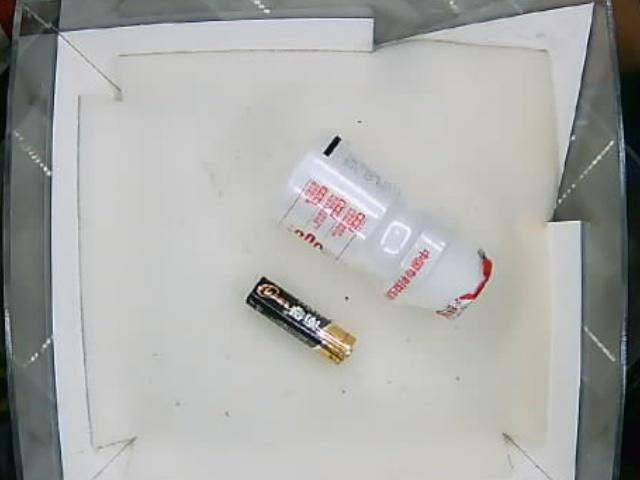Battery: (248, 276, 356, 362)
Bottle: (277, 129, 494, 322)
